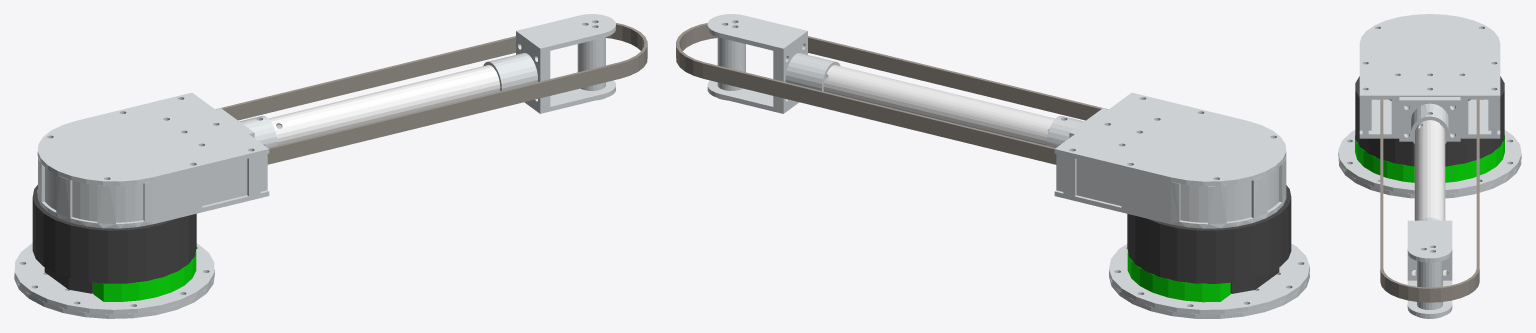
The model's file is upper_leg.dae.
The picture shows the model from 3 angles, left to right: view 1: azimuth 30°, elevation 25°; view 2: azimuth 150°, elevation 25°; view 3: azimuth 270°, elevation 25°; orthographic projection. The views are drawn at different scales.
Parts seen in each view (by area): view 1: node8, node13, node6, node14, node9, node1, node11, node10, node2, node0, node12, node7; view 2: node8, node13, node6, node14, node9, node1, node11, node10, node2, node0, node12, node7; view 3: node8, node6, node9, node13, node14, node1, node11, node7, node2, node12, node0, node10.
Boxes of the visible parts, box(x1,y1,x2,y2) form: node8: box(37, 92, 269, 185); node13: box(215, 23, 647, 164); node6: box(37, 154, 269, 228); node14: box(32, 185, 196, 293); node9: box(263, 65, 500, 145); node1: box(14, 243, 214, 314); node11: box(522, 14, 615, 112); node10: box(483, 29, 545, 113); node2: box(93, 250, 196, 301); node0: box(14, 268, 214, 318); node12: box(577, 37, 605, 100); node7: box(216, 108, 277, 147); node8: box(1054, 92, 1286, 185); node13: box(676, 23, 1108, 164); node6: box(1054, 154, 1286, 228); node14: box(1127, 185, 1291, 293); node9: box(823, 65, 1060, 145); node1: box(1109, 243, 1309, 314); node11: box(707, 14, 801, 112); node10: box(777, 29, 840, 113); node2: box(1127, 251, 1230, 302); node0: box(1109, 272, 1309, 318); node12: box(717, 37, 745, 100); node7: box(1046, 108, 1107, 147); node8: box(1359, 14, 1500, 99); node6: box(1359, 99, 1500, 138); node9: box(1414, 120, 1445, 220); node13: box(1380, 99, 1479, 302); node14: box(1355, 76, 1504, 166); node1: box(1338, 130, 1521, 194); node11: box(1407, 223, 1452, 317); node7: box(1399, 97, 1460, 143); node2: box(1355, 135, 1504, 182); node12: box(1417, 261, 1442, 318); node0: box(1338, 158, 1521, 198); node10: box(1407, 217, 1452, 273).
Bounding box in the file's own units: 0.4225 × 0.1199 × 0.0965.
